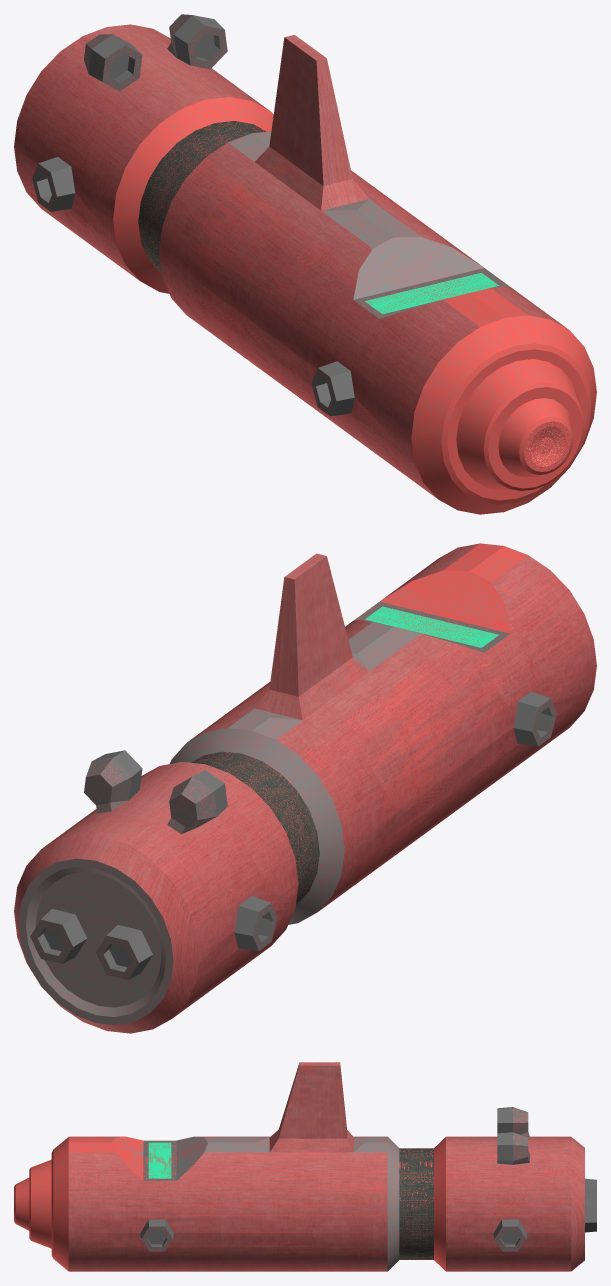
Rendered from Rocket.dae.
3 views of the same model, one above another, from view 1: azimuth 30°, elevation 25°; view 2: azimuth 150°, elevation 25°; view 3: azimuth 270°, elevation 25° (orthographic). The views are drawn at different scales.
Parts seen in each view (by area): view 1: group_0 (×20); view 2: group_0 (×22); view 3: group_0 (×18).
Boxes of the visible parts, <box> form: group_0 (×20): <box>14,15,596,514</box>; group_0 (×22): <box>14,543,596,1033</box>; group_0 (×18): <box>14,1062,596,1271</box>.
Size of the model in its own units: 4 by 14.48 by 5.53.
8 materials, 2 textured.
